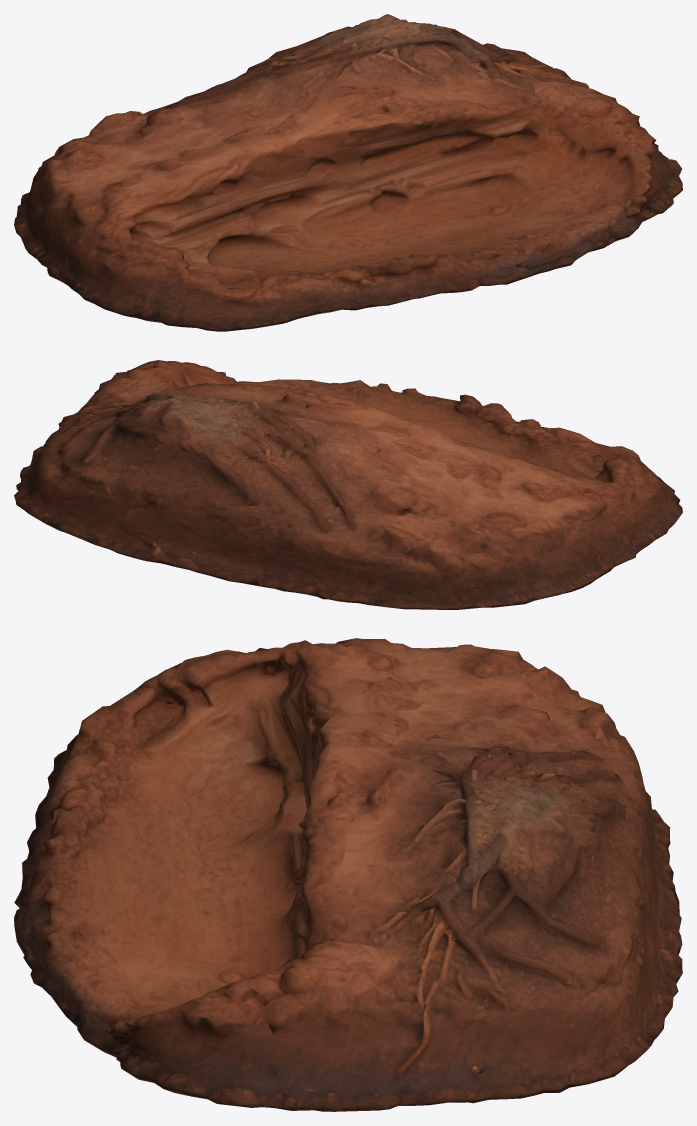
The model's file is clay-24-lod0.gltf.
The picture shows the model from 3 angles, top to bottom: view 1: azimuth 30°, elevation 25°; view 2: azimuth 150°, elevation 25°; view 3: azimuth 270°, elevation 25°; orthographic projection. The views are drawn at different scales.
Visible parts, largest first — view 1: clay stage 0 L0; view 2: clay stage 0 L0; view 3: clay stage 0 L0.
Part boxes in pixels (left/top/right/bottom): clay stage 0 L0: left=14, top=14, right=682, bottom=331; clay stage 0 L0: left=14, top=360, right=682, bottom=609; clay stage 0 L0: left=14, top=638, right=682, bottom=1111.
Bounding box in the file's own units: 1.76 × 0.3578 × 1.21.
1 material, 1 textured.
